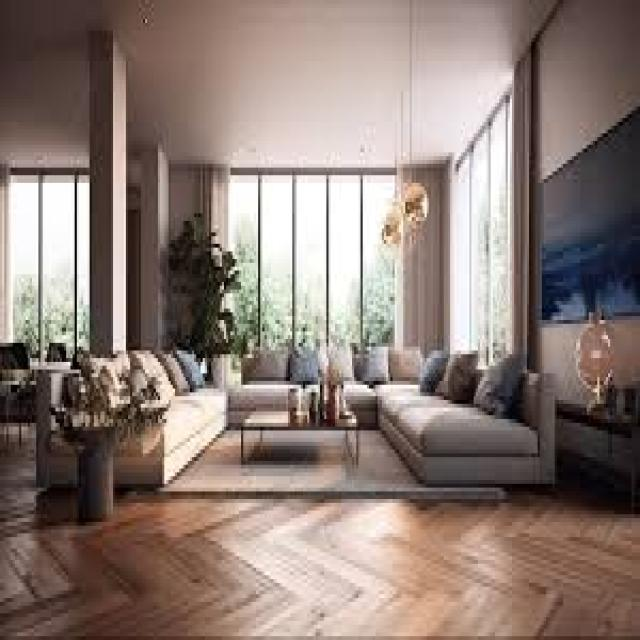Sofa: (38, 331, 227, 489), (379, 337, 554, 504), (230, 338, 389, 402)
Table: (242, 406, 366, 476)
tv: (535, 110, 640, 320)
window: (230, 177, 404, 337), (451, 93, 512, 334), (11, 170, 95, 342)
